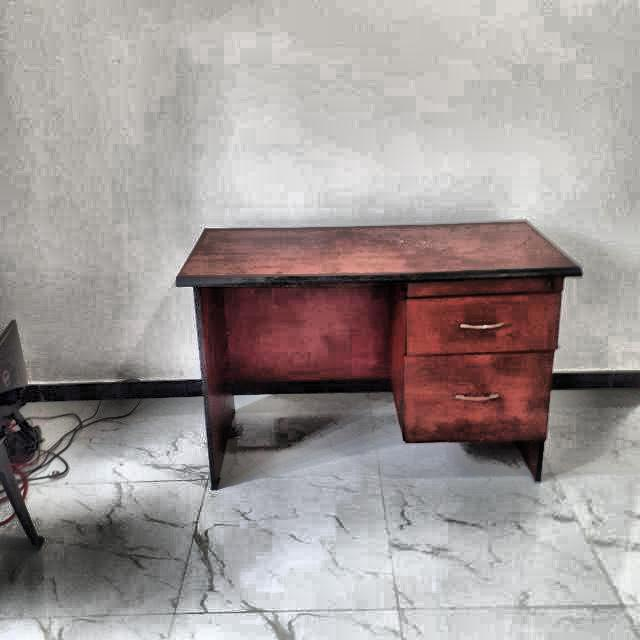mesa: (162, 214, 609, 524)
